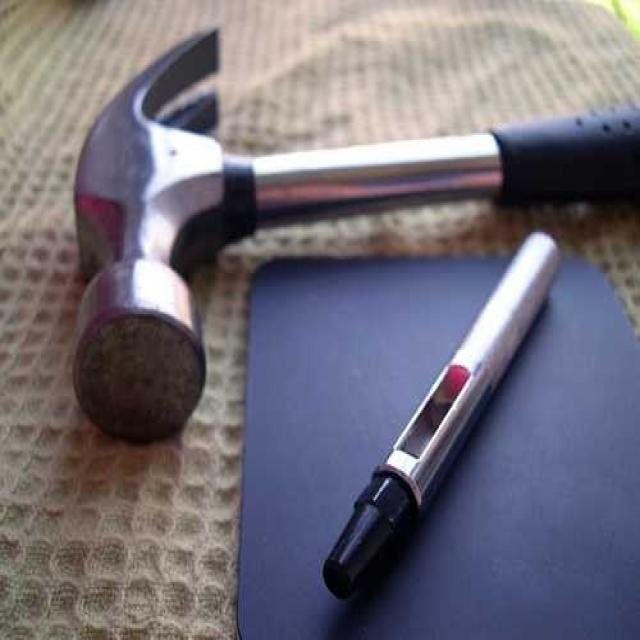hammer: (71, 28, 640, 444)
